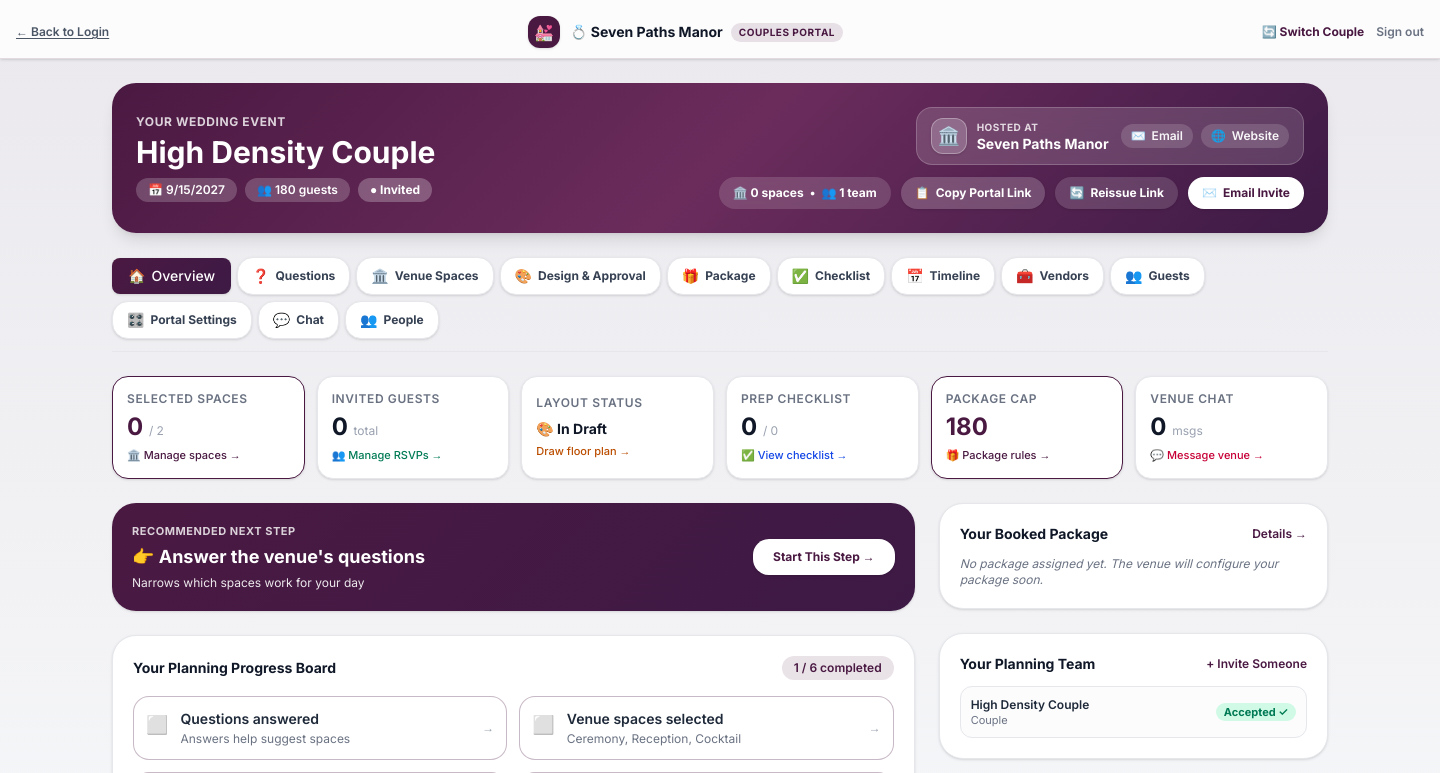
CouplesPortal - High-Density Executive Layout & Usability (#158) › renders Design & Approval in a 2-column Command Center layout
Click the tab "🎨 Design & Approval".
click(580, 276)  # box [500,257,661,295]
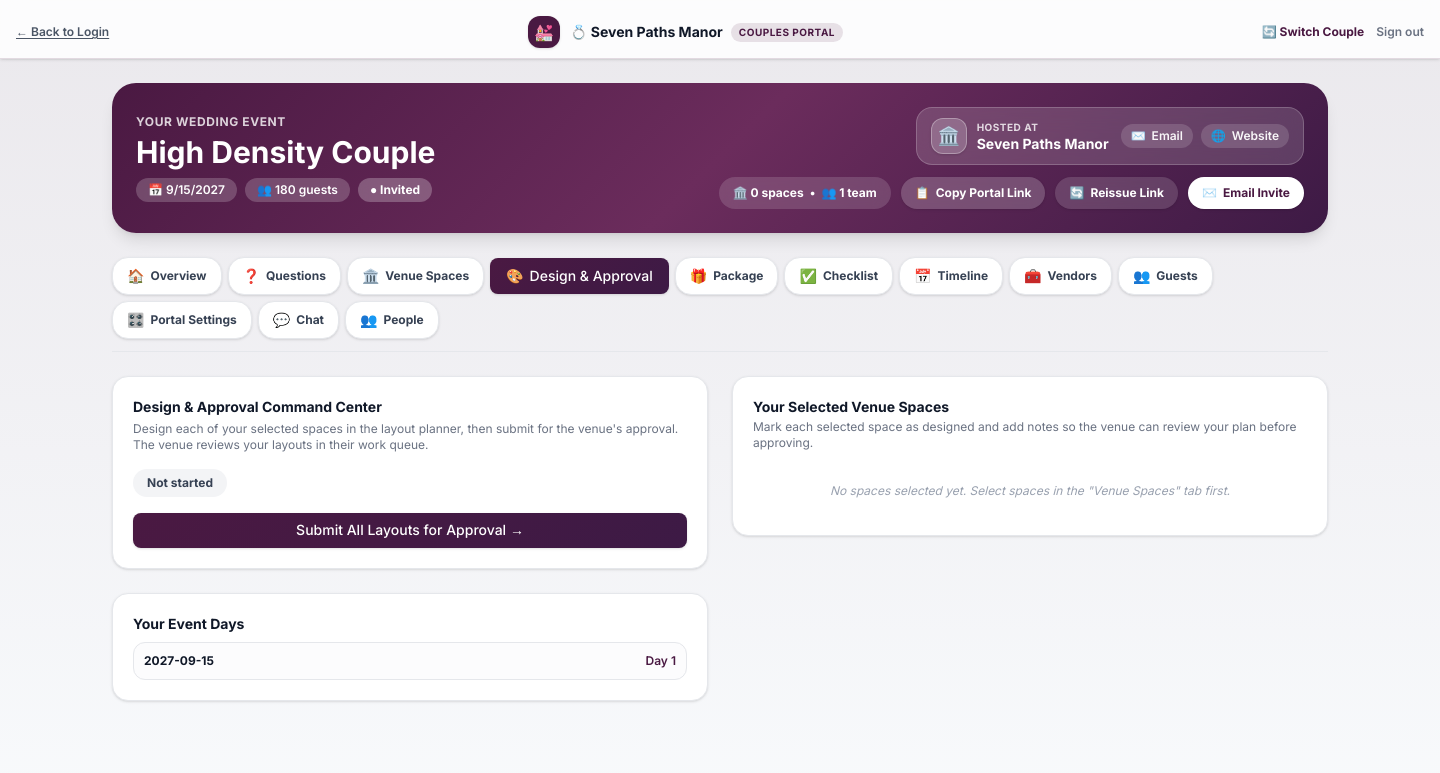
Now the heading "Design & Approval Command Center" is shown, box [133,398,382,415]
Now the heading "Your Selected Venue Spaces" is shown, box [753,398,949,415]
